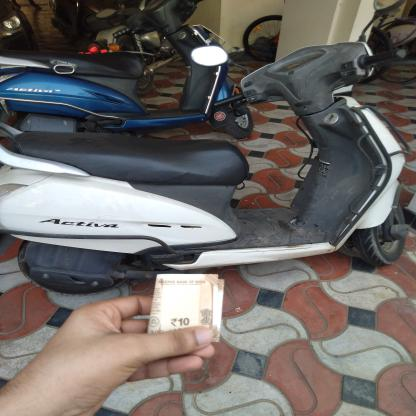New10Front: (149, 276, 221, 334)
